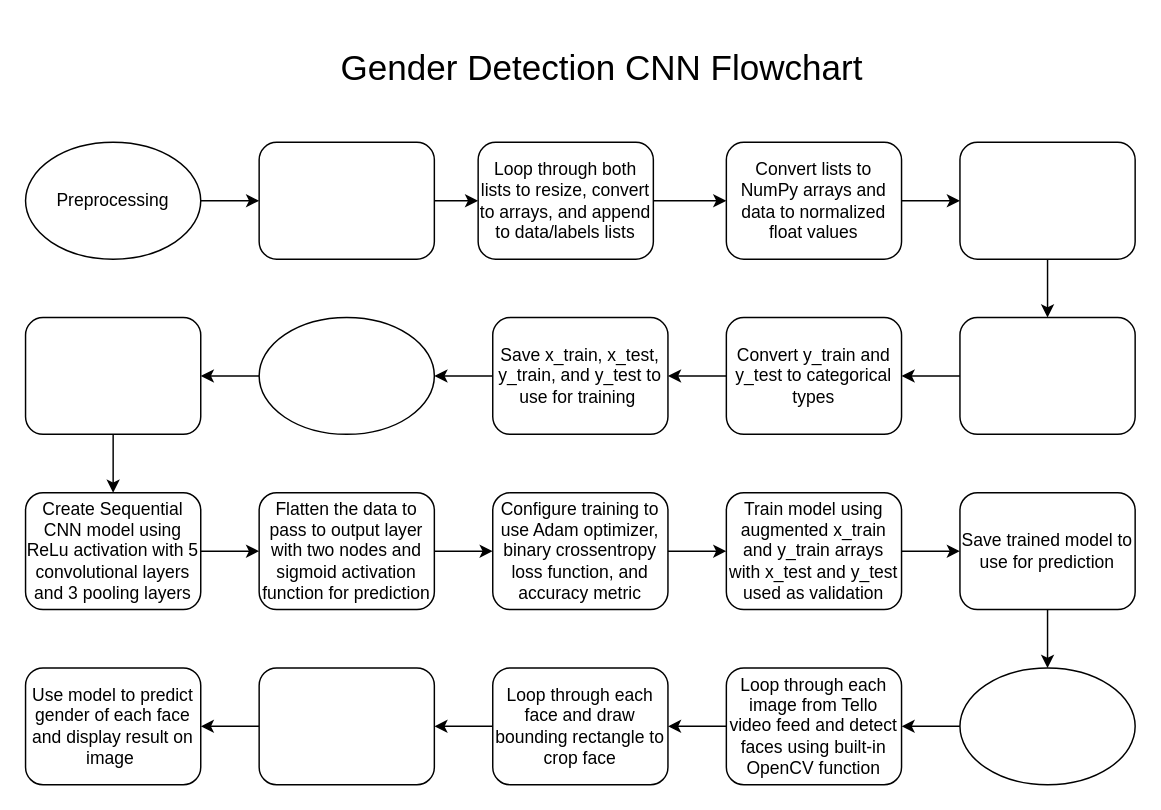
Some shapes in this 1161 by 810 pixel diagram are drawn without their labels. The shapes that lost their labels are listed below. From the top down, each one's centre as x and y in pixels, then its label:
At point 346,200: "Read jpg filenames into separate lists for men and women".
At point 1046,200: "Randomize data and labels and rename to x and y".
At point 112,375: "Create ImageDataGenerator to augment data to increase amount of training data".
At point 346,375: "Training".
At point 1046,375: "Split both x and y arrays into training and test sets".
At point 346,725: "Resize each face image, convert to normalized floats, and convert to arrays".
At point 1046,725: "Prediction".
